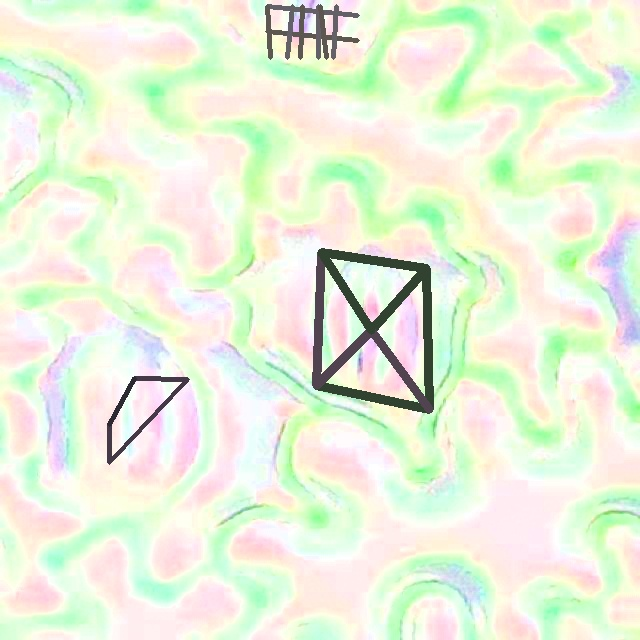close: (107, 376, 189, 464)
open: (312, 248, 430, 413), (265, 4, 359, 59)
